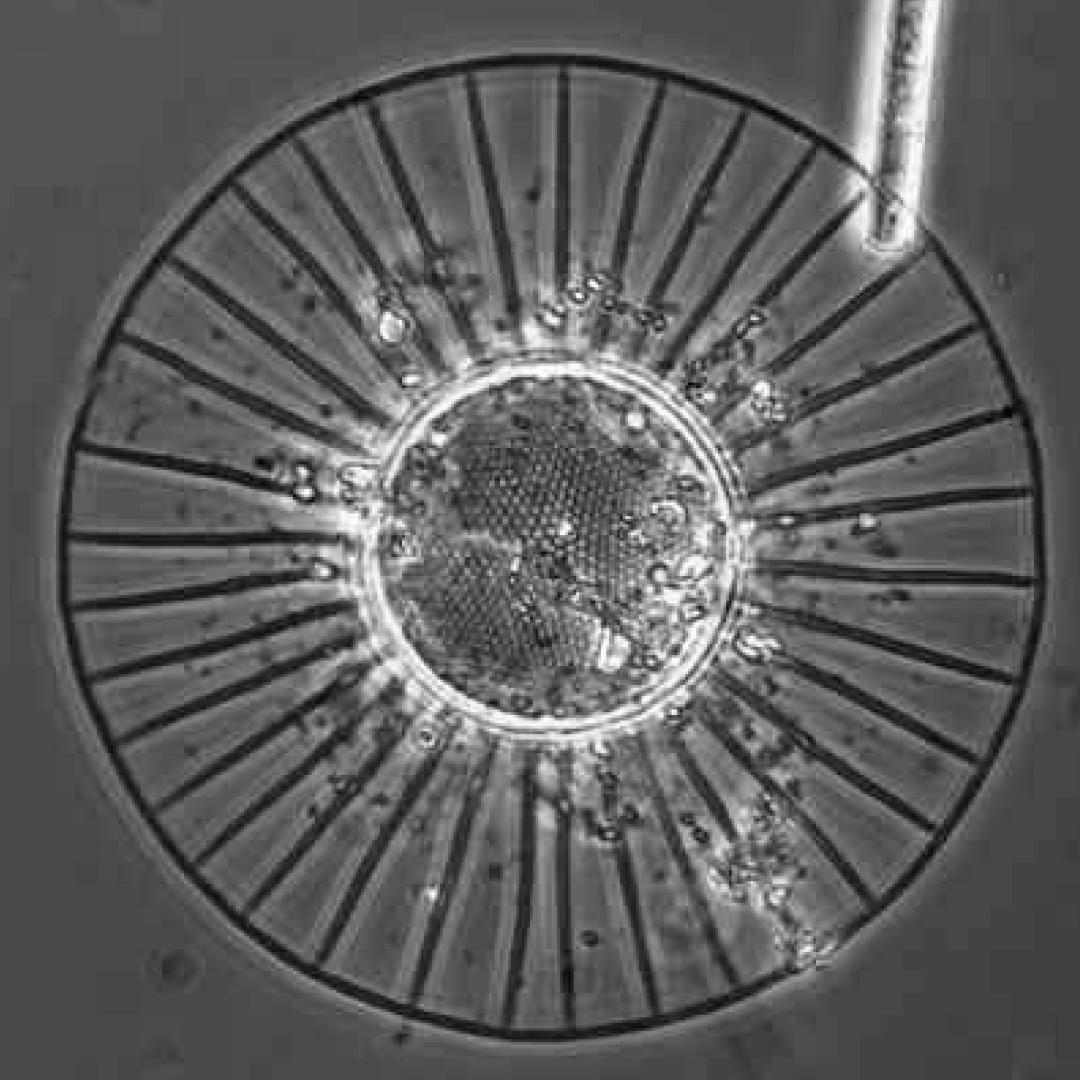planktoniella_sol: (60, 56, 1044, 1040)
